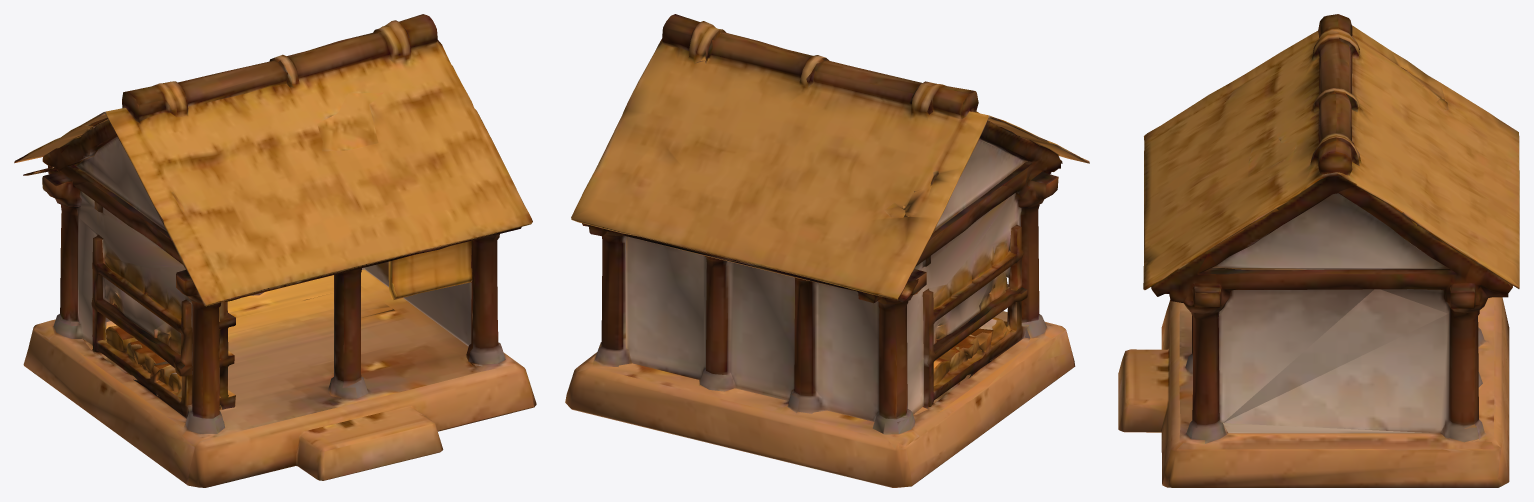
The model's file is study-hall.glb.
The picture shows the model from 3 angles, left to right: view 1: azimuth 30°, elevation 25°; view 2: azimuth 150°, elevation 25°; view 3: azimuth 270°, elevation 25°; orthographic projection. The views are drawn at different scales.
Visible parts, largest first — view 1: 1_output_1793794261684863_gbBzUQVbn; view 2: 1_output_1793794261684863_gbBzUQVbn; view 3: 1_output_1793794261684863_gbBzUQVbn.
Boxes of the visible parts, x1,y1,x2,y2 form: 1_output_1793794261684863_gbBzUQVbn: [14, 14, 536, 487]; 1_output_1793794261684863_gbBzUQVbn: [565, 14, 1089, 487]; 1_output_1793794261684863_gbBzUQVbn: [1118, 14, 1519, 487].
Size of the model in its own units: 1.86 by 1.71 by 1.91.
1 material, 1 textured.
